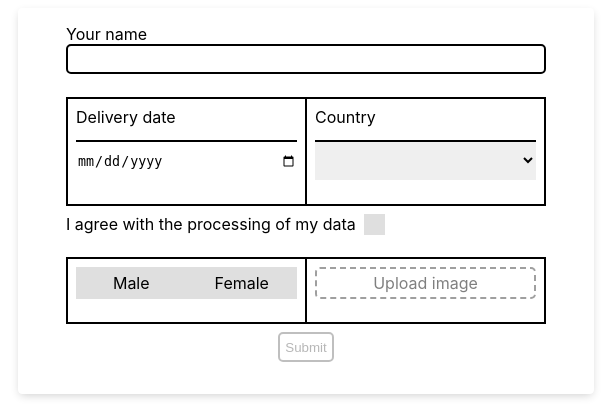
Test: Form component works › should render only incorrect fields errors after some input corrected
Type "Correct Name" into the field.
click(306, 59); type("Correct Name")  # box [66, 44, 546, 74]
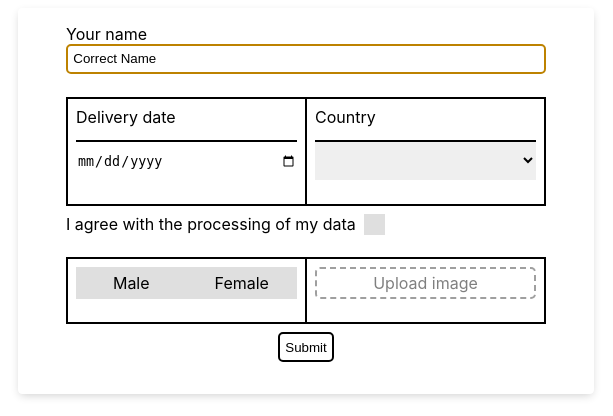
Click the radio button labelled "Male".
click(131, 283)  # box [76, 267, 186, 299]
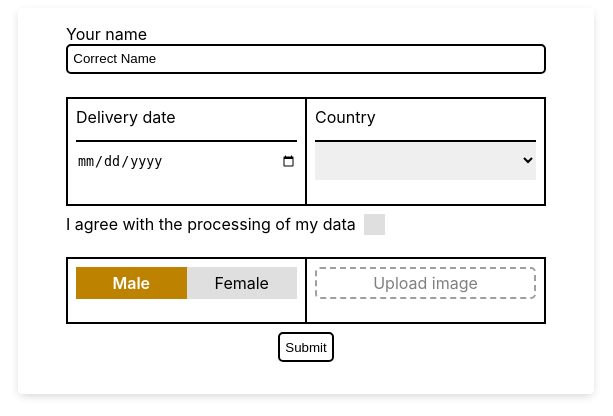
Click the button.
click(306, 347)  # box [278, 332, 334, 362]
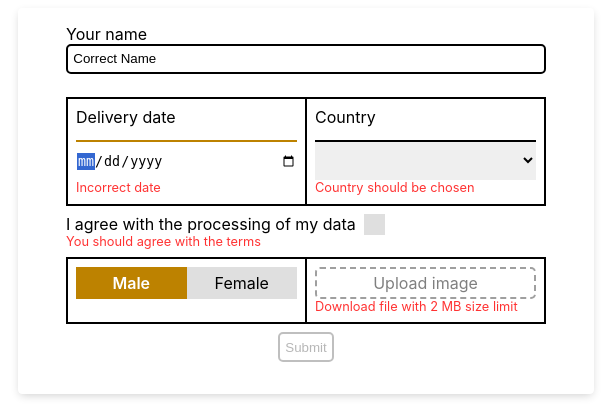
Expected: the text "Incorrect date" is shown, [76, 180, 161, 195]
Expected: the text "Country should be chosen" is shown, [315, 180, 474, 195]
Expected: the text "You should agree with the terms" is shown, [66, 234, 261, 249]
Select "Belarus" in the dropdown at (426, 160), box [315, 140, 536, 180]
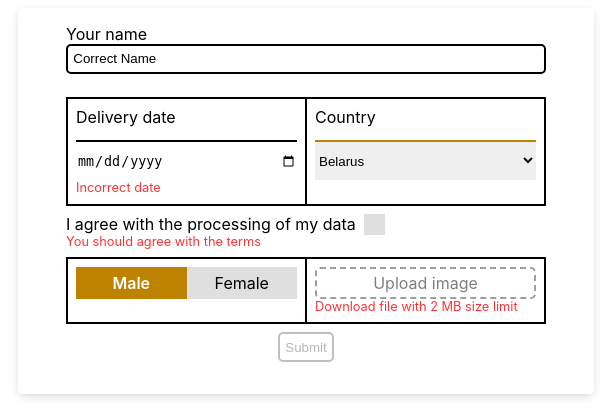
Click the checkbox.
click(211, 224)  # box [66, 214, 356, 234]
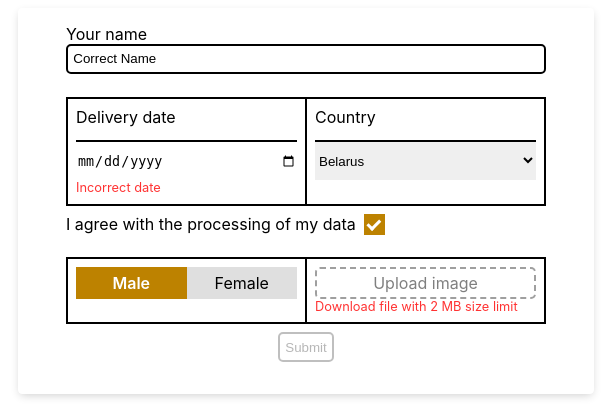
Expected: the text "Incorrect date" is shown, [76, 180, 161, 195]
Expected: the text "Download file with 2 MB size limit" is shown, [315, 299, 536, 314]
Expected: the text "You should agree with the terms" is gone
